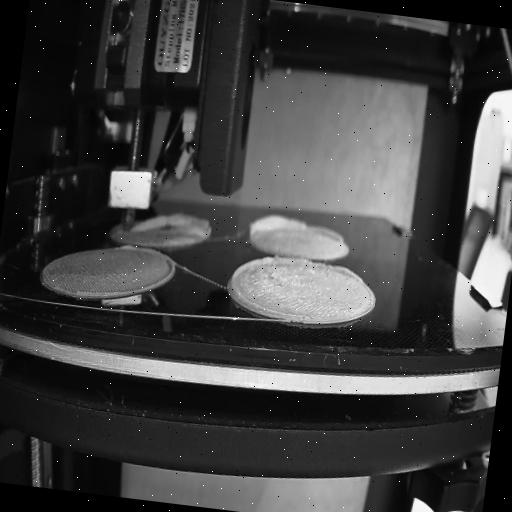over_extrusion: (221, 249, 314, 321), (247, 210, 312, 245), (312, 221, 346, 242)
